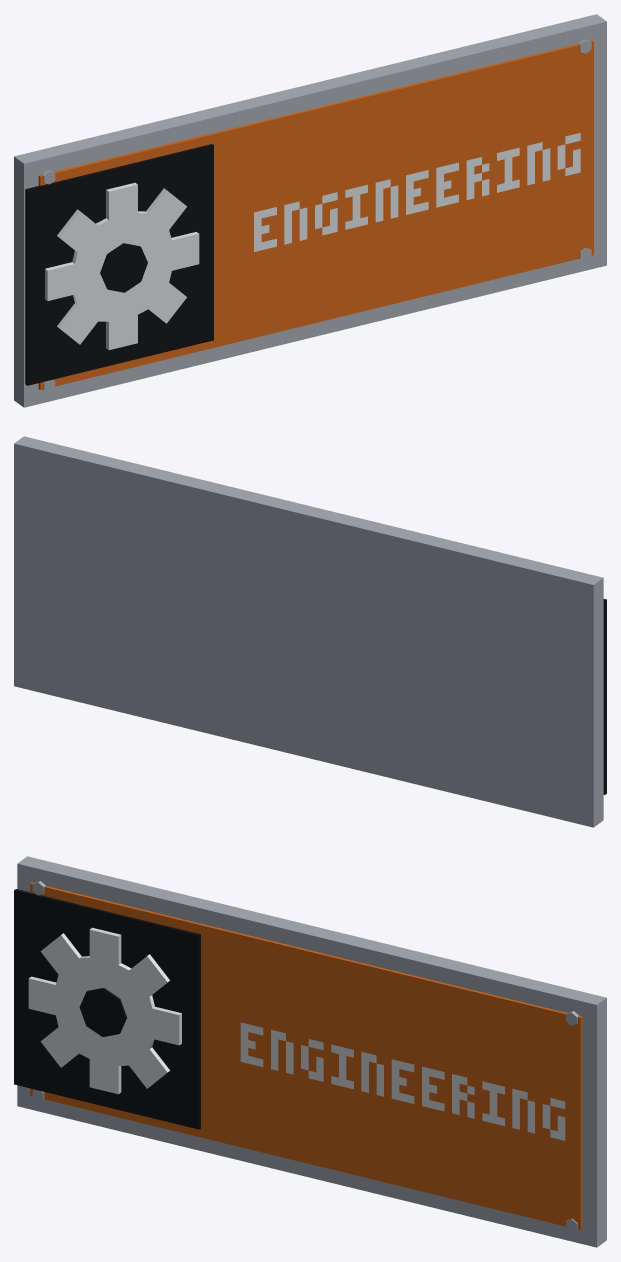
File: sign_dept_engineering.glb
3 renders of one model, top to bottom at view 1: azimuth 30°, elevation 25°; view 2: azimuth 150°, elevation 25°; view 3: azimuth 330°, elevation 25°, orthographic.
Visible parts, largest first — view 1: sign_dept_engineering; view 2: sign_dept_engineering; view 3: sign_dept_engineering.
Part boxes in pixels (x1,y1,x2,y2): sign_dept_engineering: (14,14,606,407); sign_dept_engineering: (14,436,606,827); sign_dept_engineering: (14,856,606,1247).
Bounding box in the file's own units: 1 × 0.4 × 0.052.
